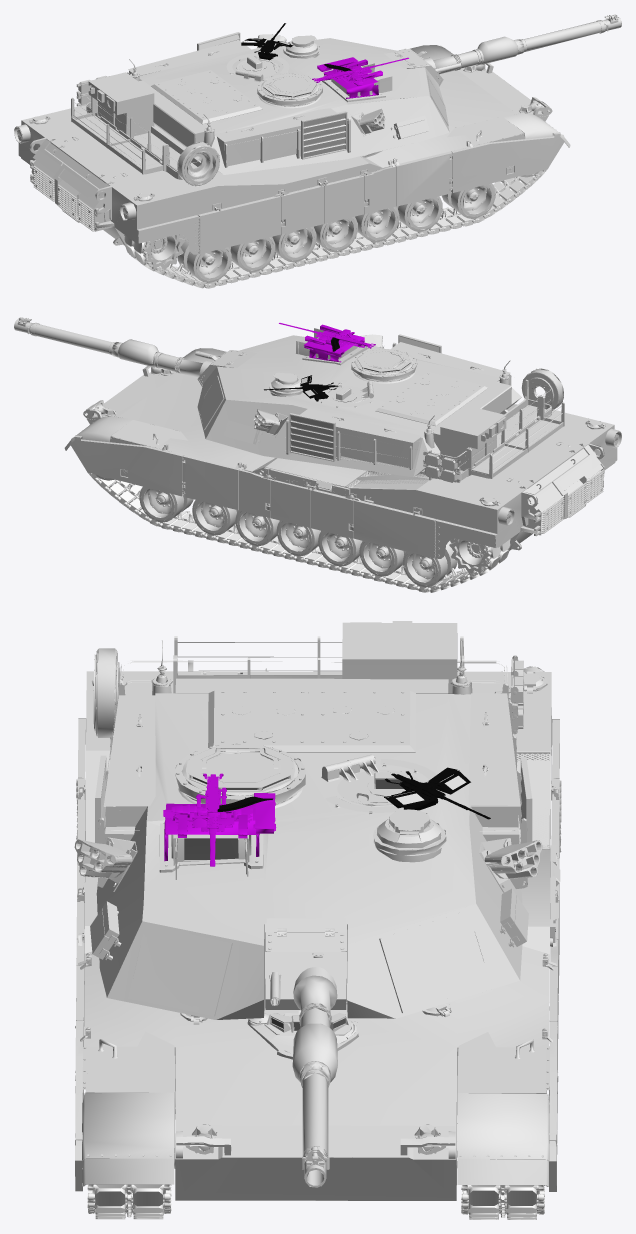
The model's file is m1a2_tejas.glb.
3 renders of one model, top to bottom at view 1: azimuth 30°, elevation 25°; view 2: azimuth 150°, elevation 25°; view 3: azimuth 270°, elevation 25°, orthographic. The views are drawn at different scales.
Parts seen in each view (by area): view 1: Hull, Turret, Track Pads - Right, Gun, Track Rods - Right, Rear Fender, CROWS, Crows Mount; view 2: Hull, Turret, Track Pads - Left, Gun, Track Rods - Left, Rear Fender, CROWS, Crows Mount; view 3: Turret, Hull, Gun, CROWS, Track Pads - Right, Track Pads - Left, Rear Fender, Gun Mantlet Flap, Crows Mount, M240 Shield.
Boxes of the visible parts, bbox=[...] form: Hull: bbox=[14, 45, 570, 282]; Turret: bbox=[71, 32, 449, 186]; Track Pads - Right: bbox=[124, 135, 544, 288]; Gun: bbox=[395, 14, 621, 86]; Track Rods - Right: bbox=[125, 168, 548, 287]; Rear Fender: bbox=[18, 143, 200, 254]; CROWS: bbox=[312, 57, 408, 85]; Crows Mount: bbox=[323, 70, 378, 98]; Hull: bbox=[64, 348, 621, 587]; Turret: bbox=[197, 328, 564, 482]; Track Pads - Left: bbox=[90, 474, 510, 592]; Gun: bbox=[14, 317, 246, 386]; Track Rods - Left: bbox=[87, 472, 508, 591]; Rear Fender: bbox=[434, 448, 617, 558]; CROWS: bbox=[279, 323, 375, 356]; Crows Mount: bbox=[309, 334, 364, 362]; Turret: bbox=[74, 621, 542, 1019]; Hull: bbox=[75, 660, 560, 1200]; Gun: bbox=[265, 928, 346, 1187]; CROWS: bbox=[163, 773, 276, 866]; Track Pads - Right: bbox=[95, 1184, 163, 1219]; Track Pads - Left: bbox=[468, 1185, 537, 1219]; Rear Fender: bbox=[76, 716, 561, 852]; Gun Mantlet Flap: bbox=[265, 918, 346, 932]; Crows Mount: bbox=[164, 803, 259, 861]; M240 Shield: bbox=[384, 770, 470, 808].
Bounding box in the file's own units: 9.76 × 2.69 × 3.7.
